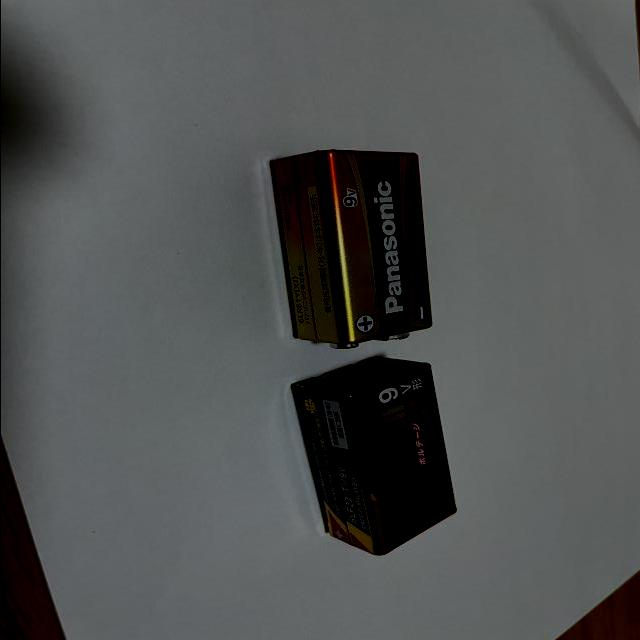9V: (271, 147, 432, 350), (292, 357, 456, 556)
